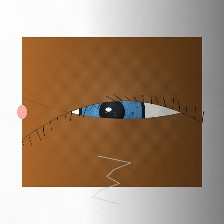foreign_body_visible: (128, 113, 175, 150)
